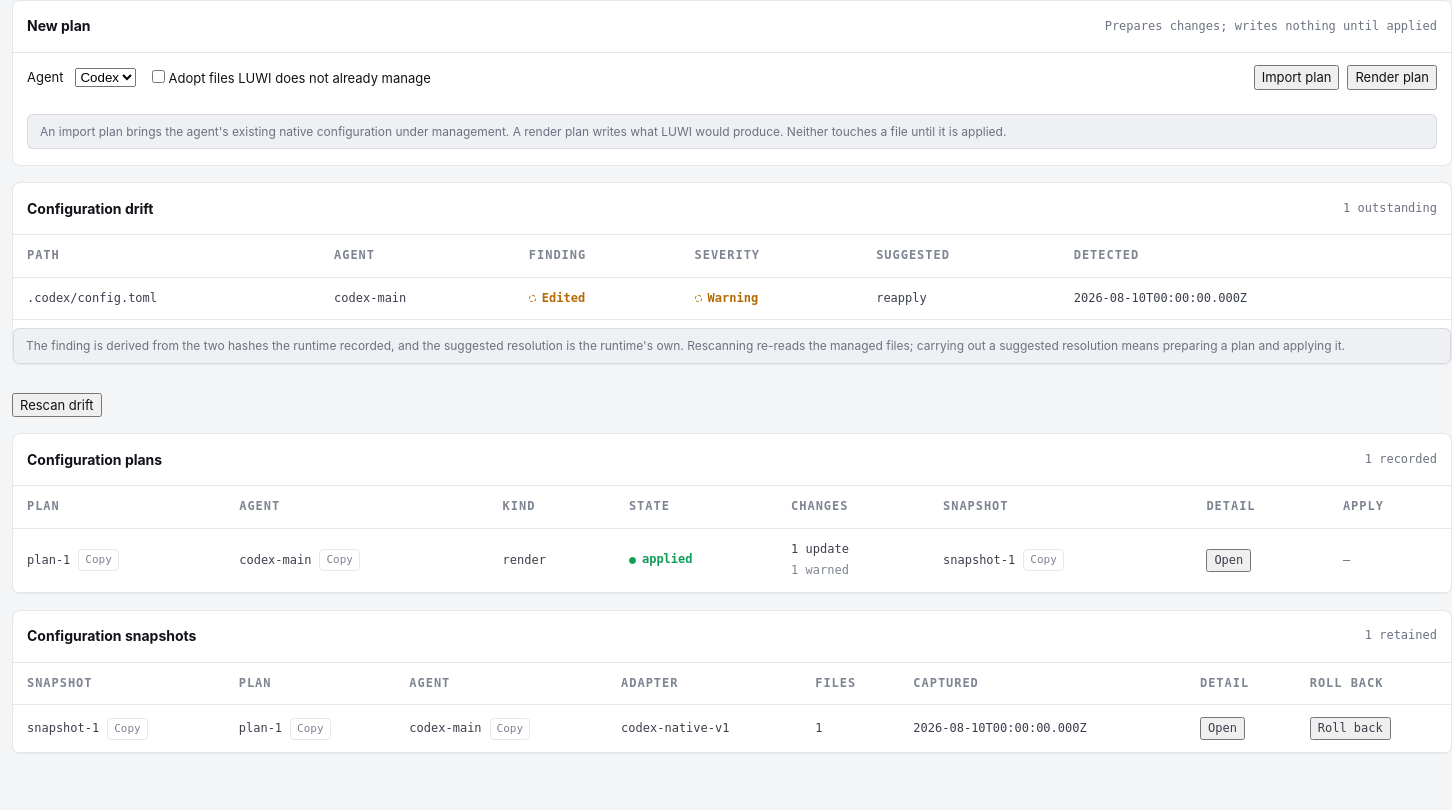
ConfigView mutations › creates a rollback plan rather than rolling back directly
Click the button with aria-label "Roll back to snapshot-1" at x=1350, y=729, box top-left (1310, 717), bottom-right (1391, 740)
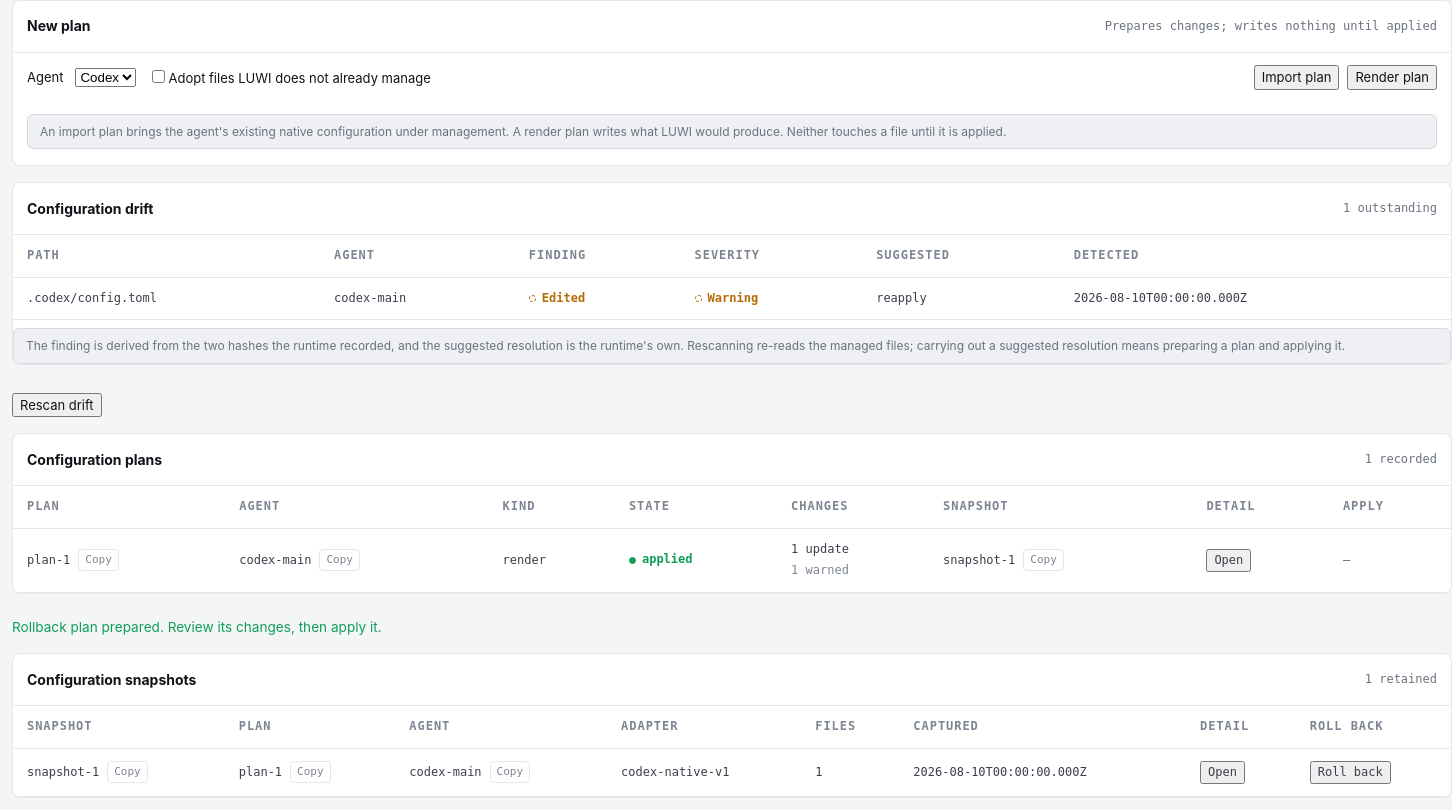
expect the text "Rollback plan prepared. Review its changes, then apply it." is shown: met, box top-left (12, 619), bottom-right (382, 635)
